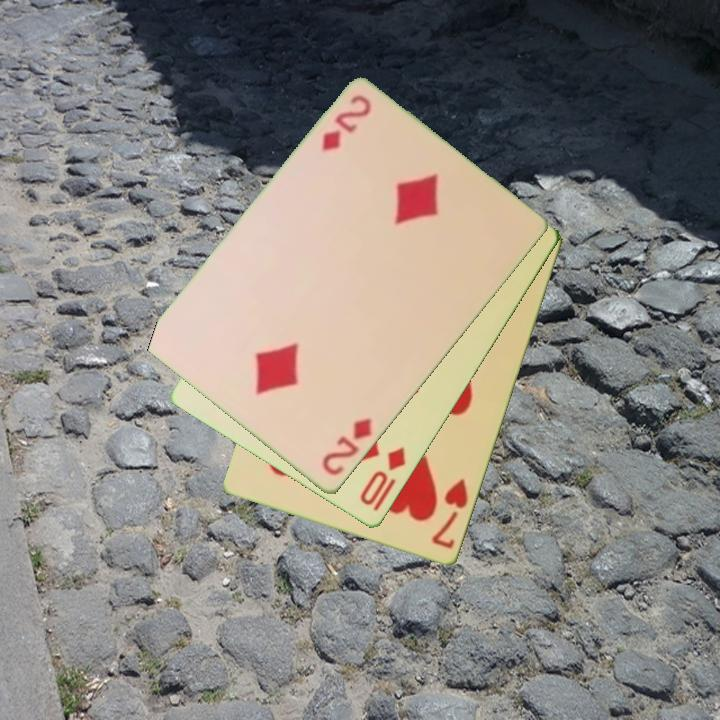10d: (356, 443, 409, 515)
2d: (318, 414, 375, 480), (318, 92, 375, 155)
7h: (428, 475, 472, 553)
